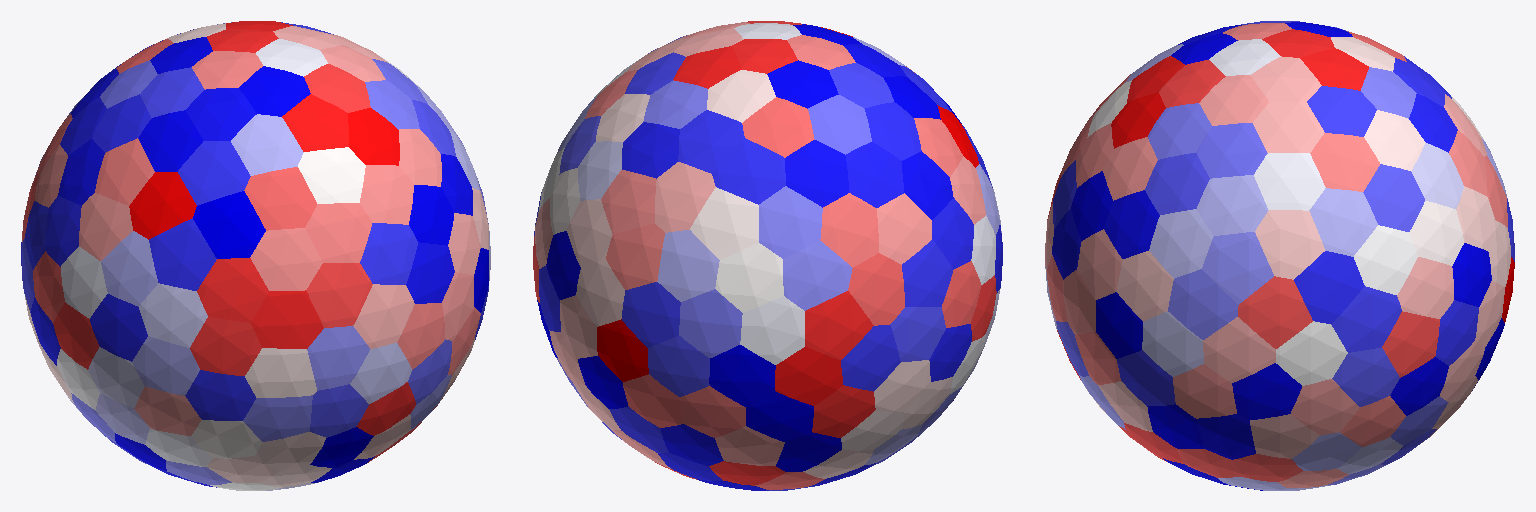
The picture shows the model from 3 angles: view 1: azimuth 30°, elevation 25°; view 2: azimuth 150°, elevation 25°; view 3: azimuth 270°, elevation 25°; orthographic projection.
Visible parts, largest first — view 1: 3D_Object; view 2: 3D_Object; view 3: 3D_Object.
Boxes of the visible parts, box(x1,y1,x2,y2) form: 3D_Object: box(21, 21, 490, 490); 3D_Object: box(533, 21, 1002, 490); 3D_Object: box(1045, 21, 1514, 490).
Size of the model in its own units: 2 by 2 by 2.
1 materials, 1 textured.